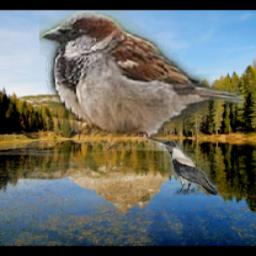Crow: (156, 140, 218, 195)
Sparrow: (39, 10, 244, 151)
